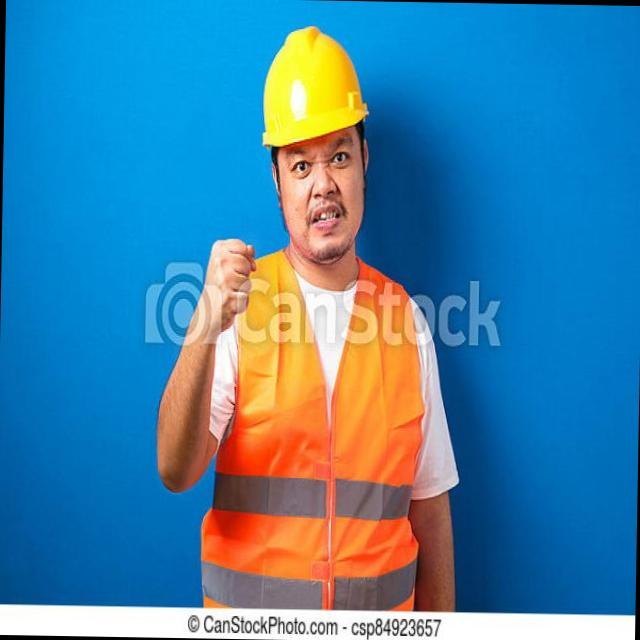Helmet: (212, 231, 424, 611), (254, 16, 390, 156)
